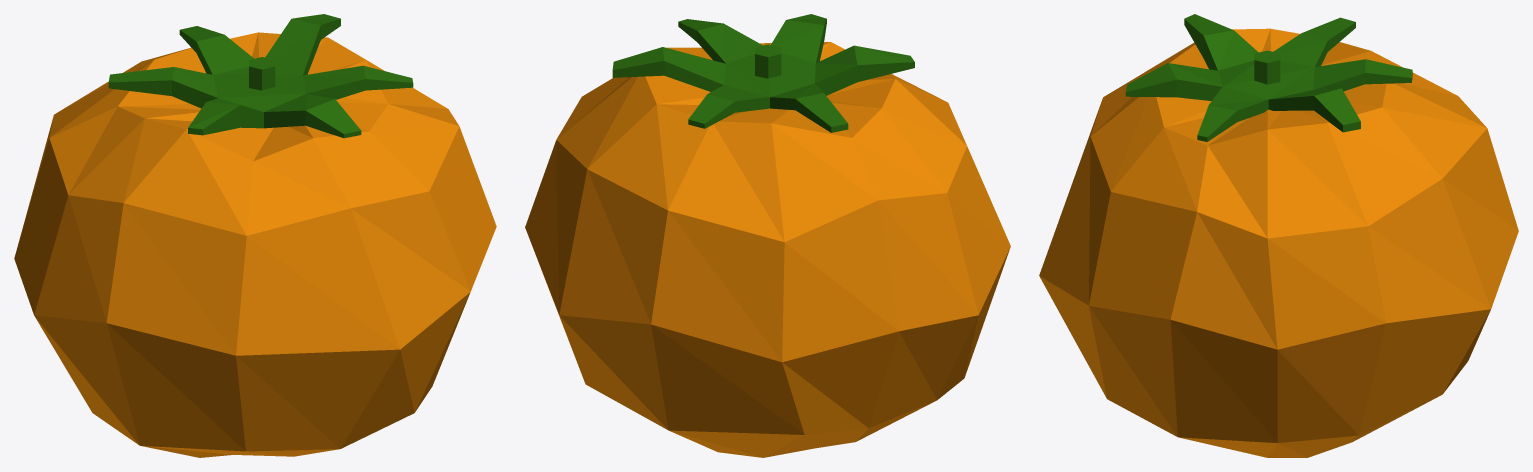
File: Tomato_yellow.fbx
3 renders of one model, left to right at view 1: azimuth 30°, elevation 25°; view 2: azimuth 150°, elevation 25°; view 3: azimuth 270°, elevation 25°, orthographic.
Visible parts, largest first — view 1: Sphere002; view 2: Sphere002; view 3: Sphere002.
Part boxes in pixels (x1,y1,x2,y2): Sphere002: (14, 14, 496, 457); Sphere002: (525, 14, 1010, 457); Sphere002: (1039, 14, 1518, 457).
Bounding box in the file's own units: 1.4 × 1.16 × 1.36.
